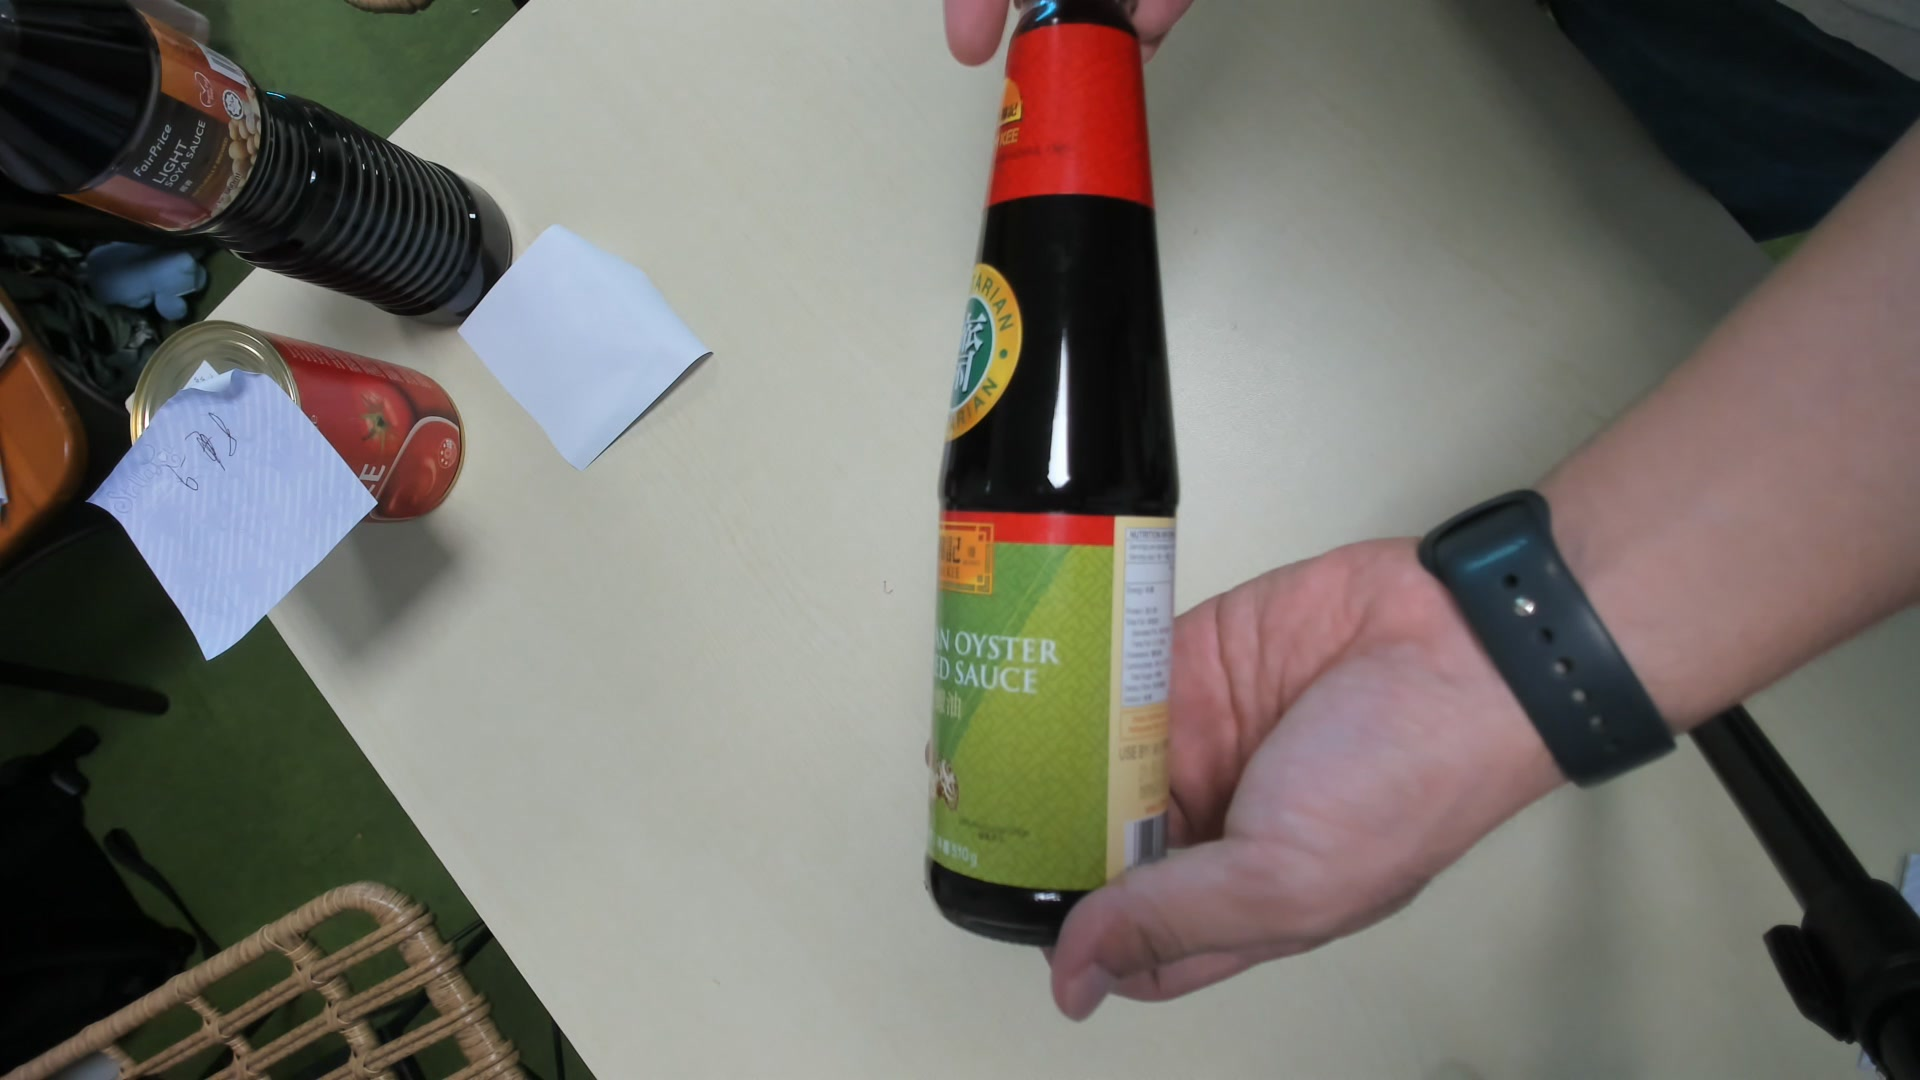OtherSauceDressingSoupbasePaste_500-599g_Halal_Healthy: (923, 7, 1171, 942)
